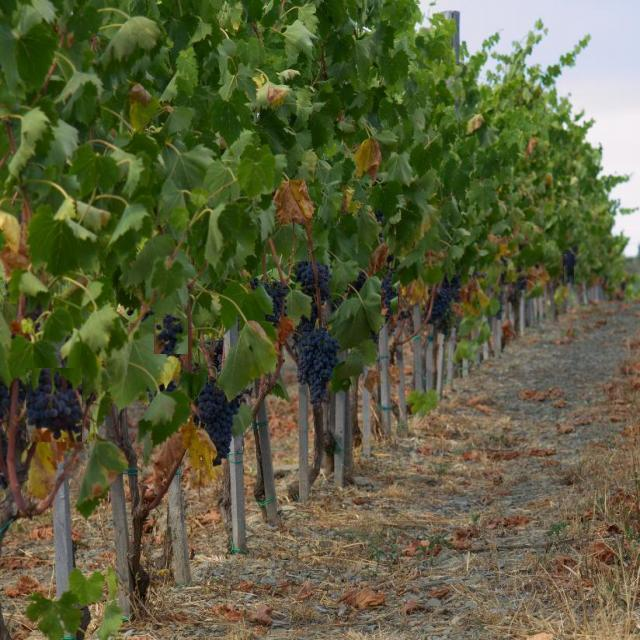Grape: (289, 264, 343, 402), (198, 376, 248, 466), (26, 368, 82, 442), (424, 277, 457, 324), (262, 280, 288, 330), (154, 318, 188, 354), (381, 269, 398, 315), (349, 272, 367, 298), (564, 253, 574, 284)
